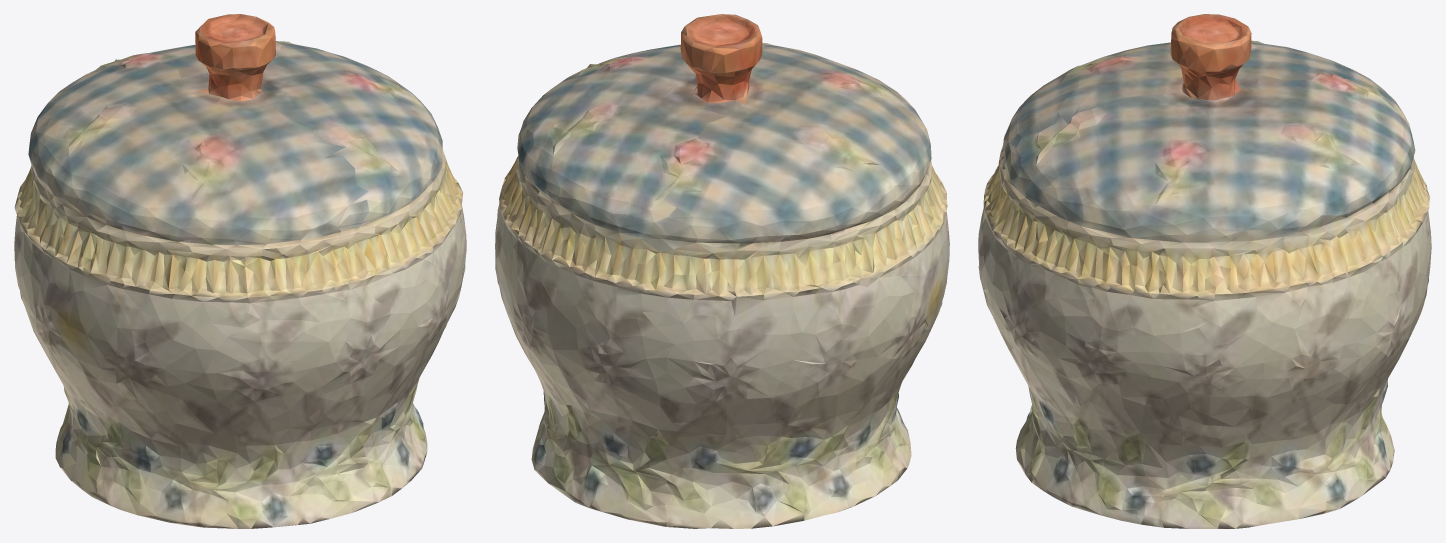
The model's file is st_ceramic_jar.gltf.
The picture shows the model from 3 angles, left to right: view 1: azimuth 30°, elevation 25°; view 2: azimuth 150°, elevation 25°; view 3: azimuth 270°, elevation 25°; orthographic projection.
Parts seen in each view (by area): view 1: Covered Jar; view 2: Covered Jar; view 3: Covered Jar.
Part boxes in pixels (x1,y1,x2,y2): Covered Jar: (14,14,466,528); Covered Jar: (495,14,949,528); Covered Jar: (978,14,1431,528).
Bounding box in the file's own units: 0.1903 × 0.1952 × 0.1889.
1 material, 1 textured.
